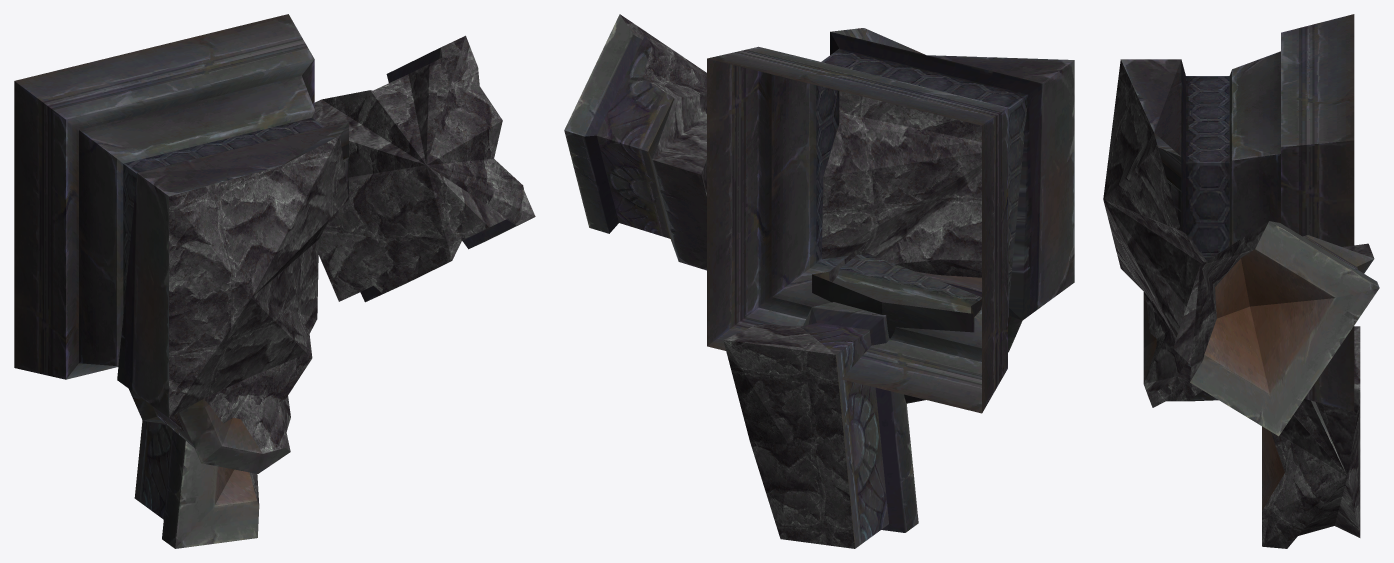
File: huodong_fuben_652_pingtai01_huopen02.obj
The picture shows the model from 3 angles, left to right: view 1: azimuth 30°, elevation 25°; view 2: azimuth 150°, elevation 25°; view 3: azimuth 270°, elevation 25°; orthographic projection. The views are drawn at different scales.
Visible parts, largest first — view 1: huodong_fuben_652_pingtai01_huopen02; view 2: huodong_fuben_652_pingtai01_huopen02; view 3: huodong_fuben_652_pingtai01_huopen02.
Boxes of the visible parts, bbox=[...] form: huodong_fuben_652_pingtai01_huopen02: bbox=[14, 14, 535, 548]; huodong_fuben_652_pingtai01_huopen02: bbox=[564, 14, 1074, 548]; huodong_fuben_652_pingtai01_huopen02: bbox=[1103, 14, 1379, 548].
Bounding box in the file's own units: 271 × 280 × 158.
2 materials, 2 textured.
